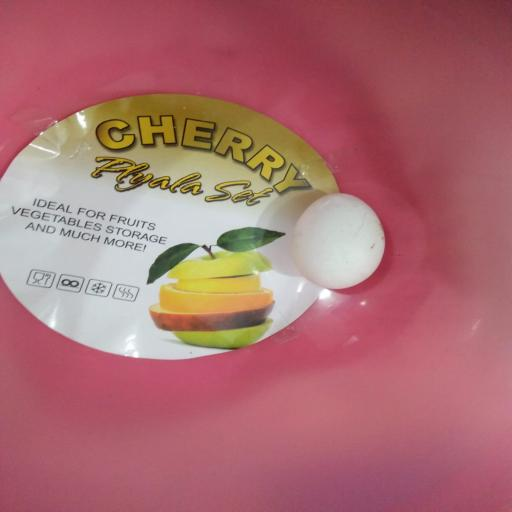telur: (287, 187, 389, 306)
